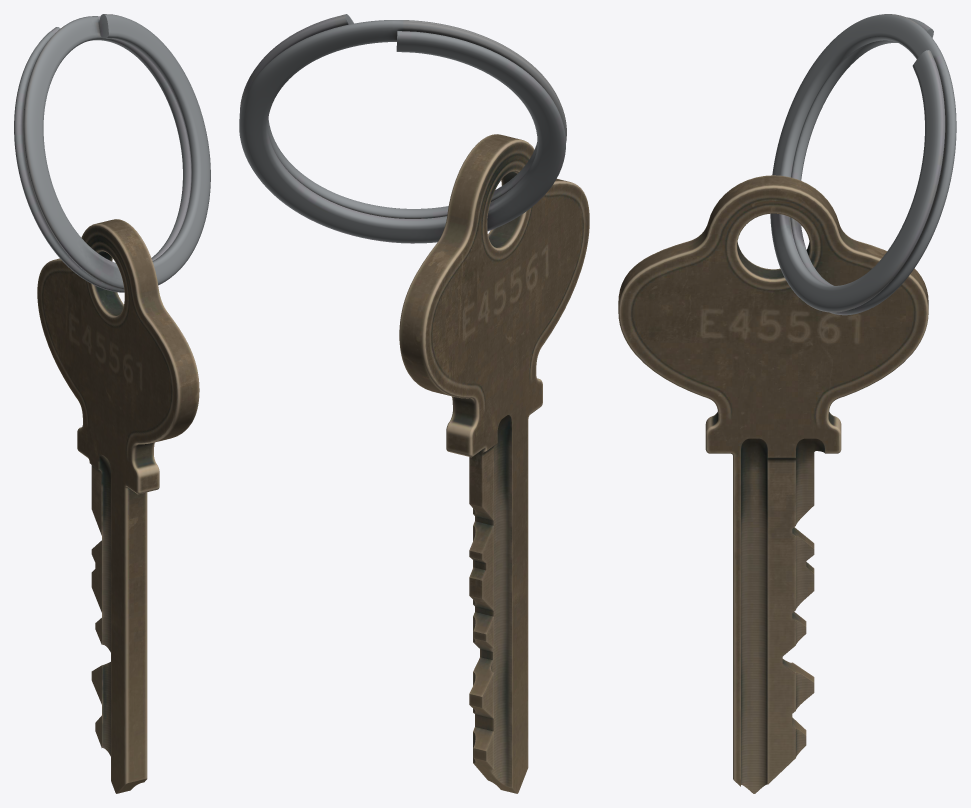
Rendered from ObicanKljuc.gltf.
The picture shows the model from 3 angles, left to right: view 1: azimuth 30°, elevation 25°; view 2: azimuth 150°, elevation 25°; view 3: azimuth 270°, elevation 25°; orthographic projection. The views are drawn at different scales.
Parts seen in each view (by area): view 1: Key_default_0_7, Ring_default_0_9; view 2: Key_default_0_7, Ring_default_0_9; view 3: Key_default_0_7, Ring_default_0_9.
Boxes of the visible parts, bbox=[...] form: Key_default_0_7: bbox=[37, 219, 199, 793]; Ring_default_0_9: bbox=[14, 14, 210, 292]; Key_default_0_7: bbox=[399, 134, 589, 793]; Ring_default_0_9: bbox=[239, 14, 566, 243]; Key_default_0_7: bbox=[618, 175, 928, 793]; Ring_default_0_9: bbox=[770, 14, 956, 315].
Bounding box in the file's own units: 0.4187 × 1.25 × 0.4931.
1 material, 1 textured.
